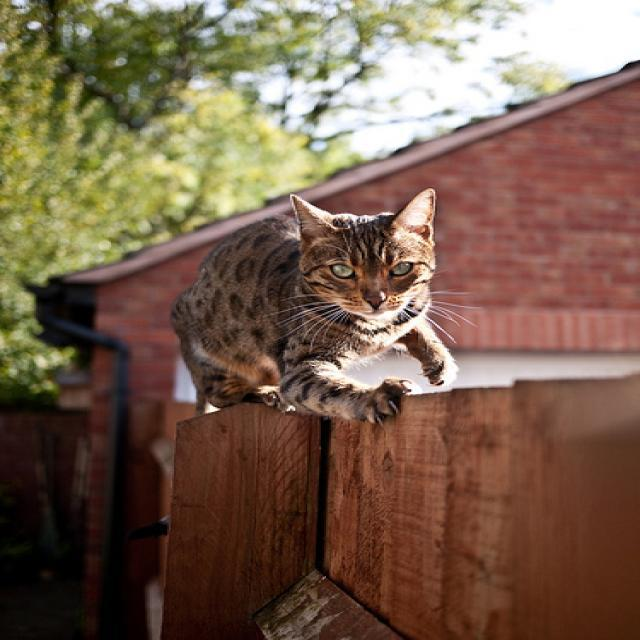Bengal: (284, 187, 446, 329)
